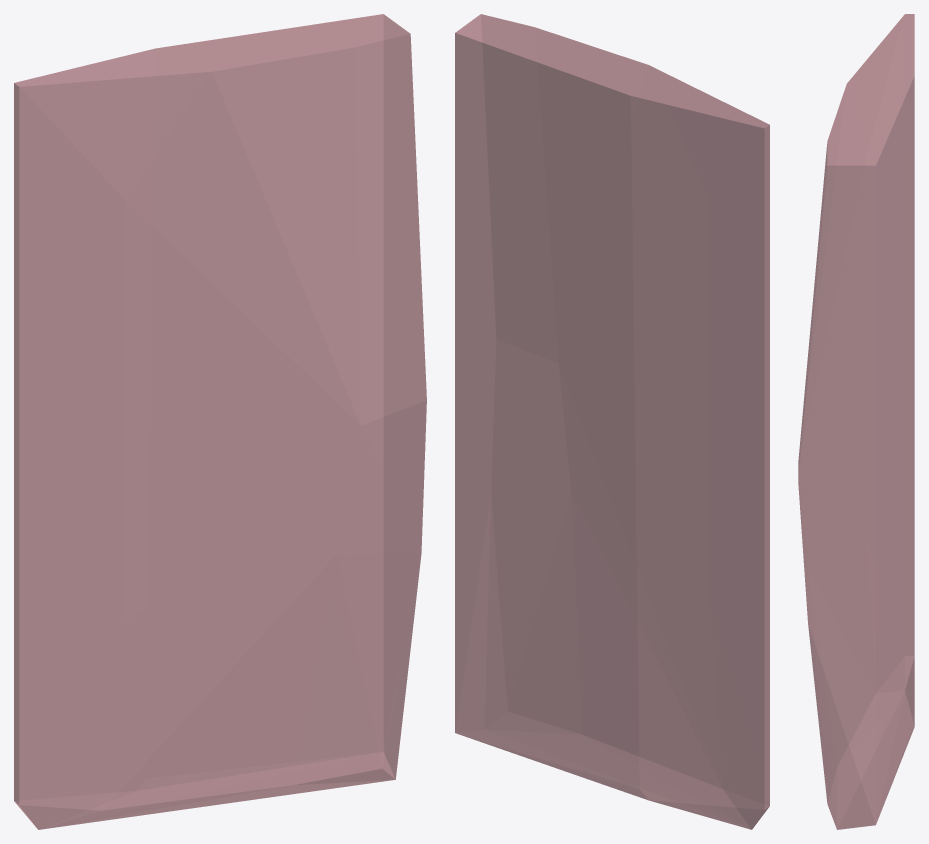
3 views of the same model, side by side, from view 1: azimuth 30°, elevation 25°; view 2: azimuth 150°, elevation 25°; view 3: azimuth 270°, elevation 25° (orthographic). The views are drawn at different scales.
Parts seen in each view (by area): view 1: Shape_IndexedFaceSet.004_Shape_IndexedFaceSet.602; view 2: Shape_IndexedFaceSet.004_Shape_IndexedFaceSet.602; view 3: Shape_IndexedFaceSet.004_Shape_IndexedFaceSet.602.
Boxes of the visible parts, <box> form: Shape_IndexedFaceSet.004_Shape_IndexedFaceSet.602: <box>14,14,426,829</box>; Shape_IndexedFaceSet.004_Shape_IndexedFaceSet.602: <box>455,14,769,829</box>; Shape_IndexedFaceSet.004_Shape_IndexedFaceSet.602: <box>798,14,914,829</box>.
Size of the model in its own units: 0.0689 by 0.1416 by 0.0224.
